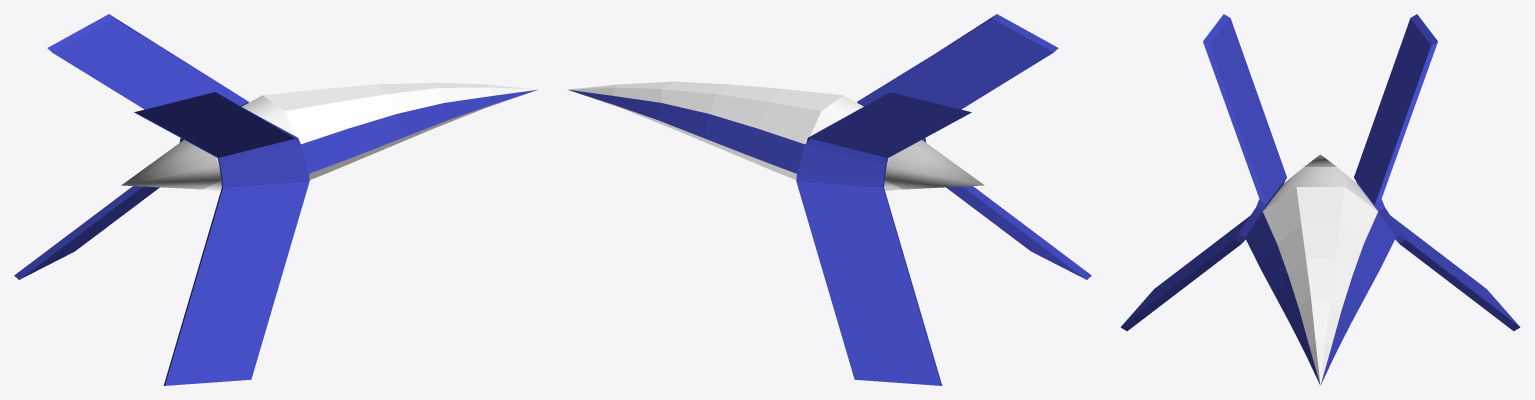
Rendered from 無人機.fbx.
3 renders of one model, left to right at view 1: azimuth 30°, elevation 25°; view 2: azimuth 150°, elevation 25°; view 3: azimuth 270°, elevation 25°, orthographic. The views are drawn at different scales.
Visible parts, largest first — view 1: 主角搭載機; view 2: 主角搭載機; view 3: 主角搭載機.
Part boxes in pixels (x1,y1,x2,y2): 主角搭載機: (14,14,537,385); 主角搭載機: (568,14,1091,385); 主角搭載機: (1120,14,1520,385).
Bounding box in the file's own units: 120 × 66.77 × 83.57.
